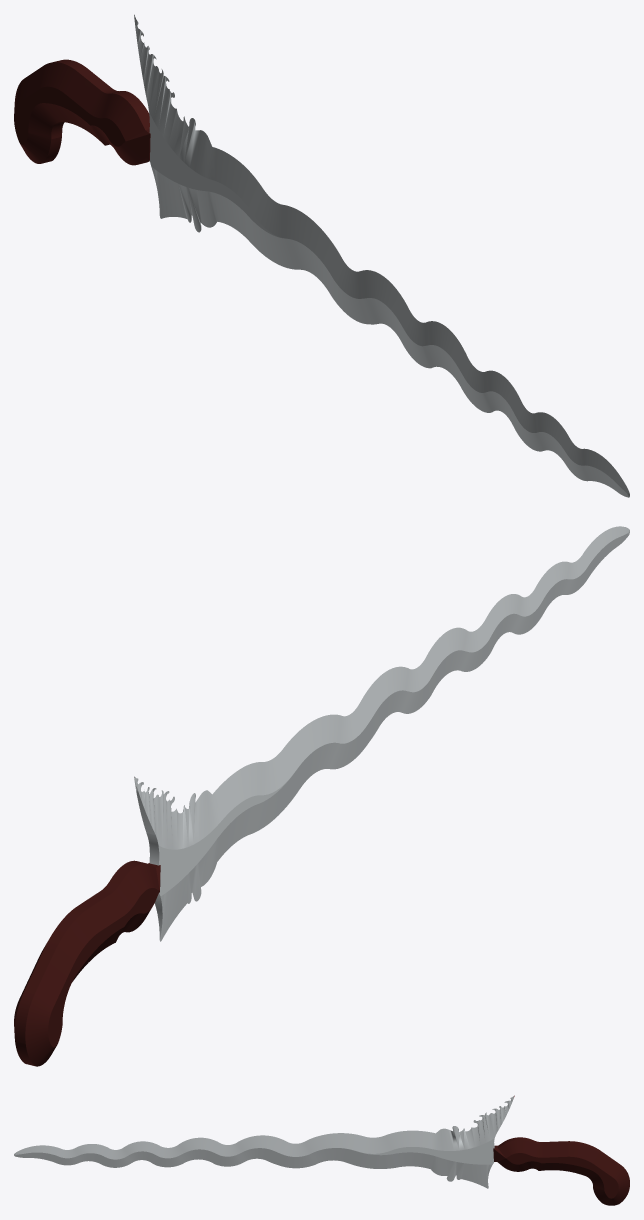
File: keris.glb
The picture shows the model from 3 angles, top to bottom: view 1: azimuth 30°, elevation 25°; view 2: azimuth 150°, elevation 25°; view 3: azimuth 270°, elevation 25°; orthographic projection. The views are drawn at different scales.
Visible parts, largest first — view 1: Keris; view 2: Keris; view 3: Keris.
Boxes of the visible parts, x1,y1,x2,y2 form: Keris: [14, 14, 629, 497]; Keris: [14, 526, 629, 1066]; Keris: [14, 1095, 629, 1205].
Size of the model in its own units: 0.0615 by 0.3722 by 1.9.
